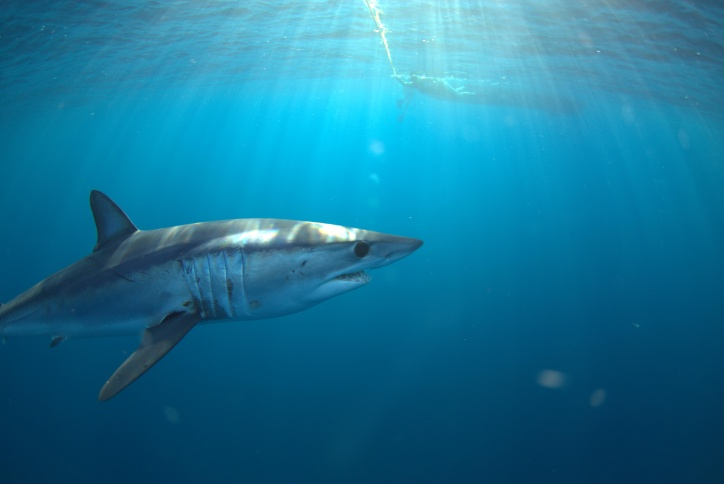Mako: (1, 184, 437, 411)
